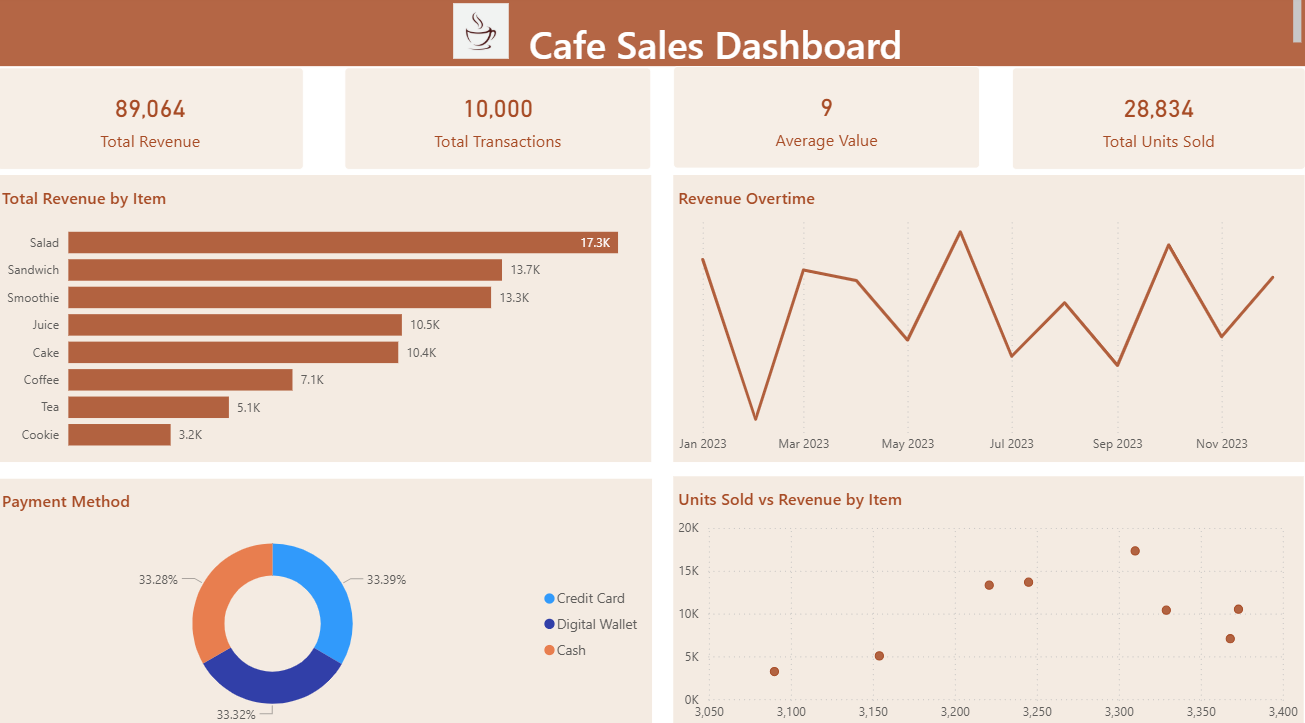

The dashboard page shown, as its layout file describes it:
{"tool":"powerbi","page":{"name":"Overview","canvas":[1280,720],"ordinal":0},"visuals":[{"type":"textbox","title":"Cafe Sales Dashboard","box":[0,0,1280.6,69.4],"z":0},{"type":"image","box":[441.9,0,64.5,71],"z":1000},{"type":"card","fields":{"Values":["Sum(clean_cafe_sales.Clean Total Spent)"]},"box":[0,71,300,100],"z":2000},{"type":"card","fields":{"Values":["Count(clean_cafe_sales.Transaction ID)"]},"box":[340.3,71,300,100],"z":3000},{"type":"card","fields":{"Values":["Avg(clean_cafe_sales.Clean Total Spent)"]},"box":[661.3,69.4,300,100],"z":4000},{"type":"card","fields":{"Values":["Sum(clean_cafe_sales.Quantity)"]},"box":[993.5,71,287.1,100],"z":5000},{"type":"clusteredBarChart","fields":{"Category":["clean_cafe_sales.Item"],"Y":["Sum(clean_cafe_sales.Clean Total Spent)"]},"box":[0,175.8,640.3,280.6],"z":6000},{"type":"lineChart","title":"Revenue Overtime","fields":{"Y":["Sum(clean_cafe_sales.Clean Total Spent)"],"Category":["clean_cafe_sales.Transaction Date.Variation.Date Hierarchy.Year","clean_cafe_sales.Transaction Date.Variation.Date Hierarchy.Month"]},"box":[661.3,175.8,617.7,280.6],"z":9000},{"type":"donutChart","title":"Payment Method","fields":{"Y":["Sum(clean_cafe_sales.Clean Total Spent)"],"Category":["clean_cafe_sales.Payment Method"]},"box":[0,473.4,640.5,246.8],"z":11000},{"type":"textbox","box":[891.7,472.5,199.2,30.8],"z":12000},{"type":"scatterChart","title":"Units Sold vs Revenue by Item","fields":{"X":["Sum(clean_cafe_sales.Quantity)"],"Category":["clean_cafe_sales.Item"],"Y":["Sum(clean_cafe_sales.Clean Total Spent)"]},"box":[662,470.9,616.5,248.1],"z":13000}]}

Visuals, with their boxes in screenshot pixels (x1, y1, x2, y2), scaled from the page's 1280x720 canvas onto the 1305x723 screenshot:
"Cafe Sales Dashboard" textbox: 0/0/1304/70
image: 451/0/516/71
card - Sum(clean_cafe_sales.Clean Total Spent): 0/71/306/172
card - Count(clean_cafe_sales.Transaction ID): 347/71/653/172
card - Avg(clean_cafe_sales.Clean Total Spent): 674/70/980/170
card - Sum(clean_cafe_sales.Quantity): 1013/71/1304/172
clusteredBarChart - clean_cafe_sales.Item x Sum(clean_cafe_sales.Clean Total Spent): 0/177/653/458
"Revenue Overtime" lineChart: 674/177/1304/458
"Payment Method" donutChart: 0/475/653/722
textbox: 909/474/1112/505
"Units Sold vs Revenue by Item" scatterChart: 675/473/1303/722
